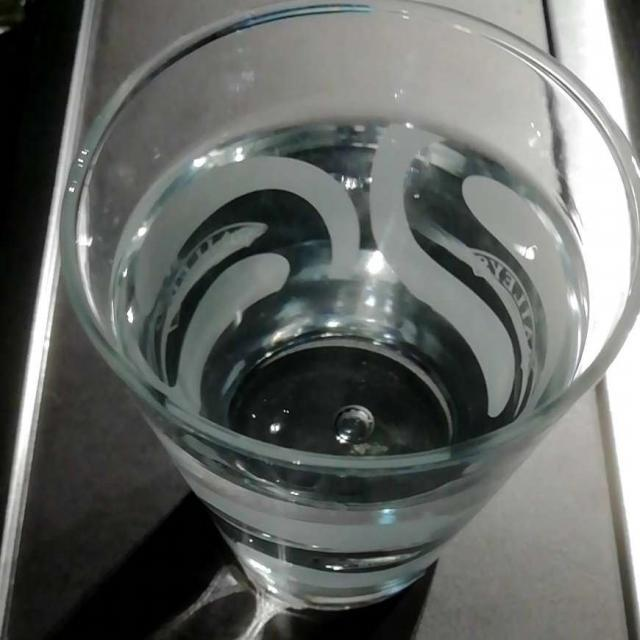water: (115, 118, 575, 487)
